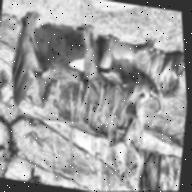boar: (0, 14, 160, 156), (123, 34, 187, 102)
